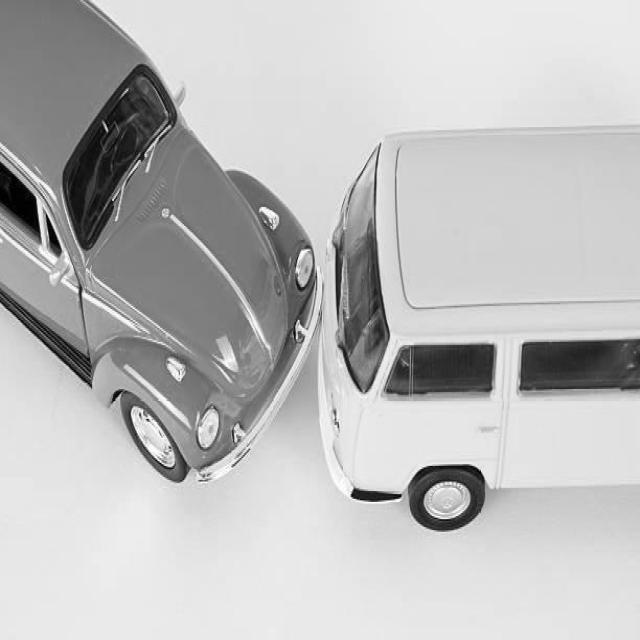car: (0, 0, 319, 477), (318, 132, 640, 528)
